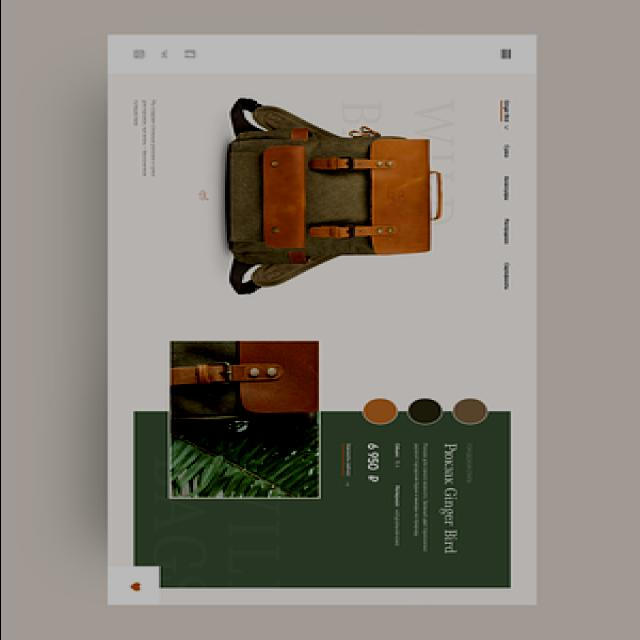backpack: (227, 99, 445, 296)
